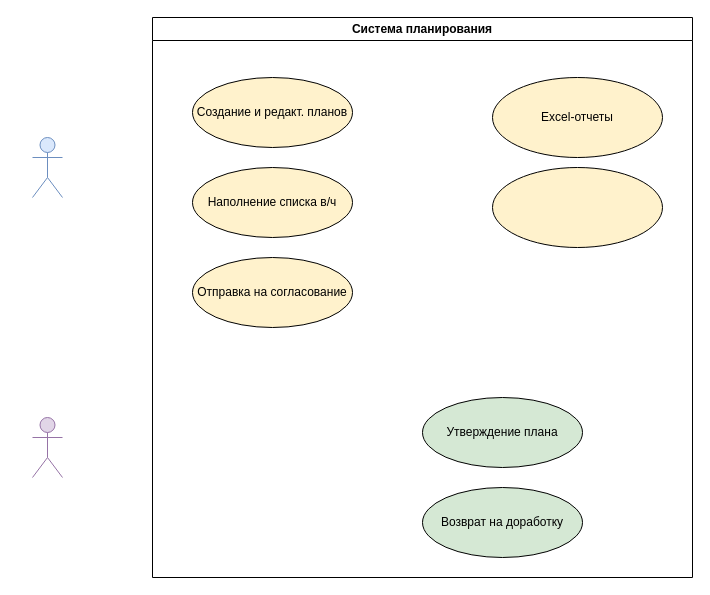
This 710x595 diagram has some shape labels left out. Each missing label, with the centre of its shape:
"Инспектор" belongs at [47,167].
"Начальник" belongs at [47,447].
"Просмотр статистики" belongs at [577,207].
